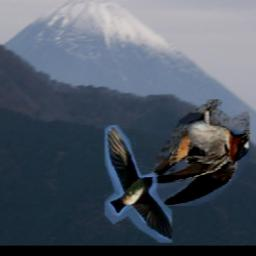Swallow: (150, 99, 250, 206), (106, 126, 173, 244)
